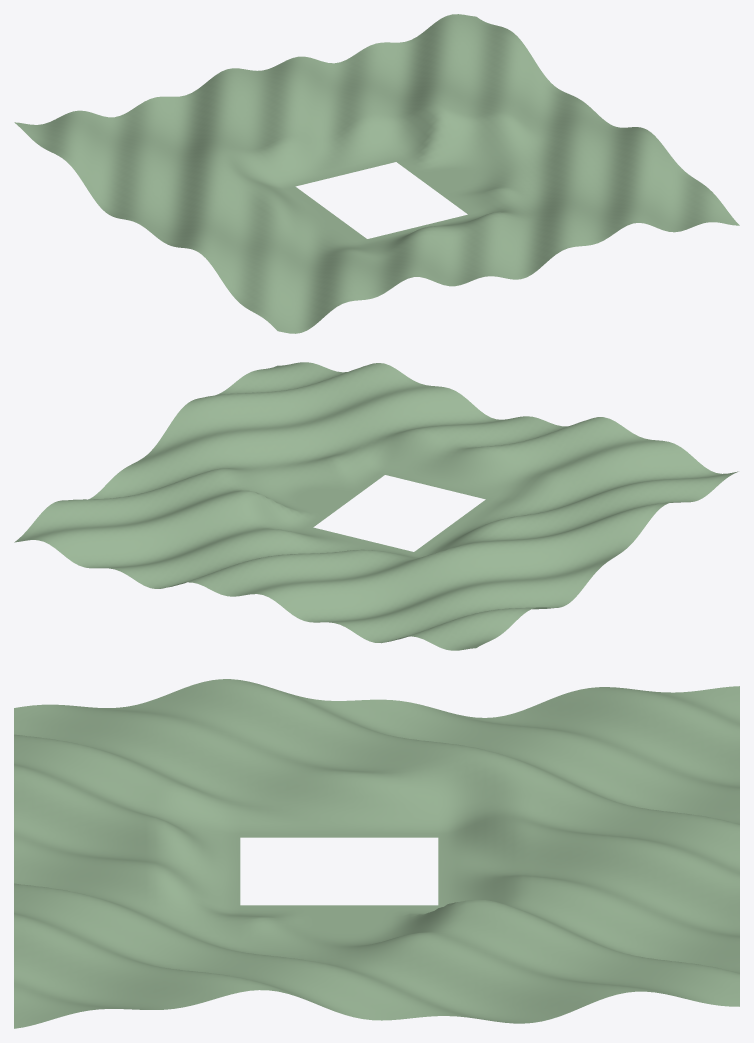
Rendered from hills.glb.
3 renders of one model, top to bottom at view 1: azimuth 30°, elevation 25°; view 2: azimuth 150°, elevation 25°; view 3: azimuth 270°, elevation 25°, orthographic. The views are drawn at different scales.
Parts seen in each view (by area): view 1: hills; view 2: hills; view 3: hills.
Part boxes in pixels (box(x1,y1,x2,y2)): hills: box(14, 14, 739, 333); hills: box(14, 362, 738, 650); hills: box(14, 679, 739, 1028).
Bounding box in the file's own units: 624 × 41.05 × 616.
